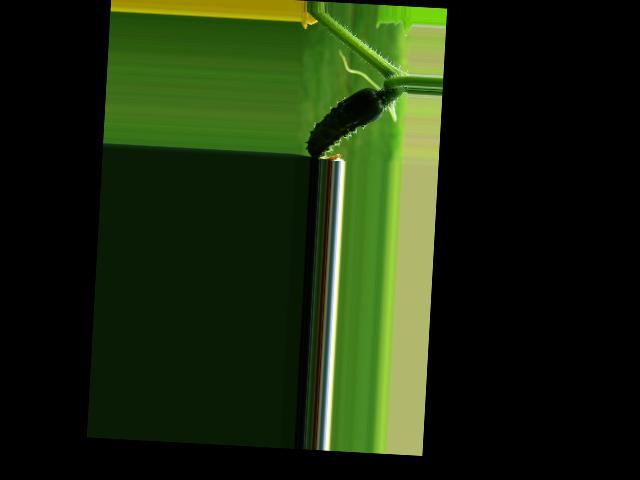cucumber: (305, 83, 384, 161)
